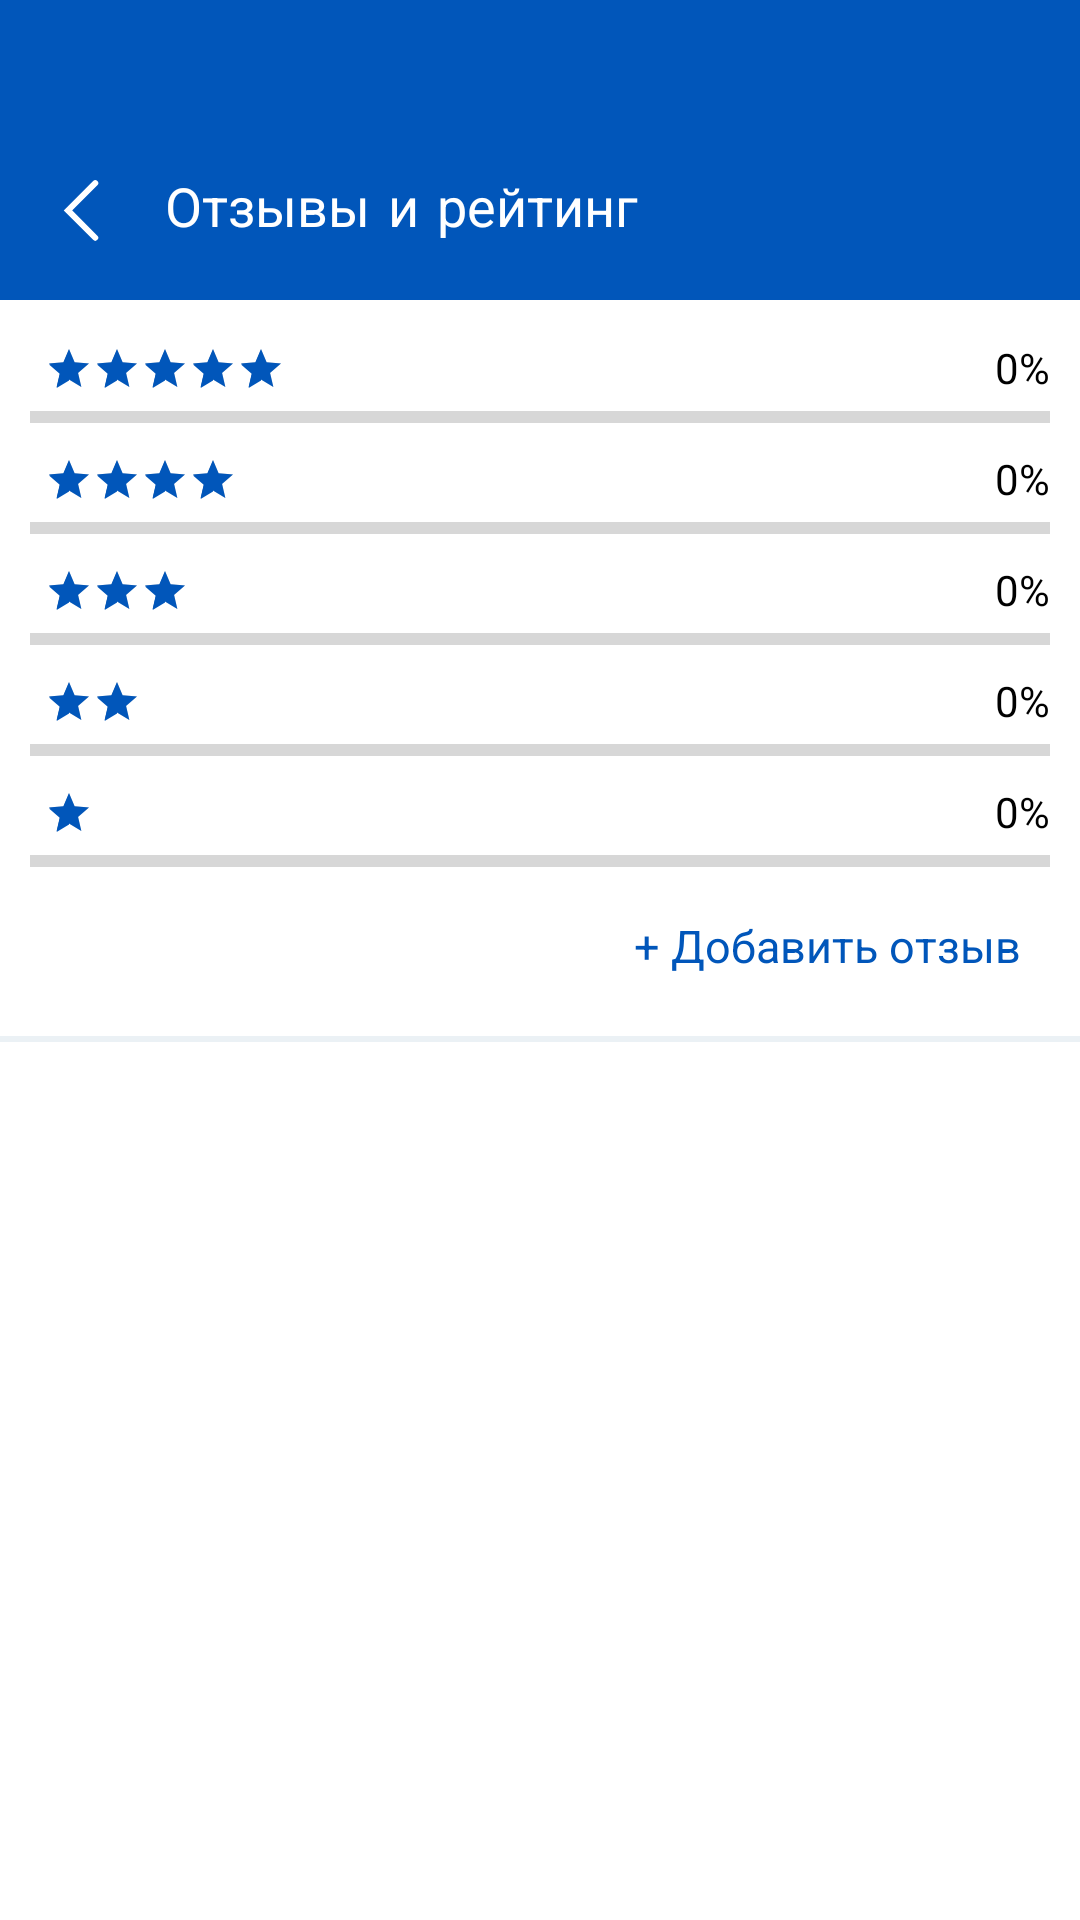

Point at icon controls on the screen. Image size 1080 x 1920, points as [x,y].
sign back: [81,210]
